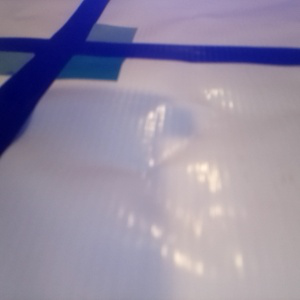bottom_left: (1, 39, 56, 74)
bottom_right: (35, 42, 125, 80)
top_right: (62, 24, 137, 55)
